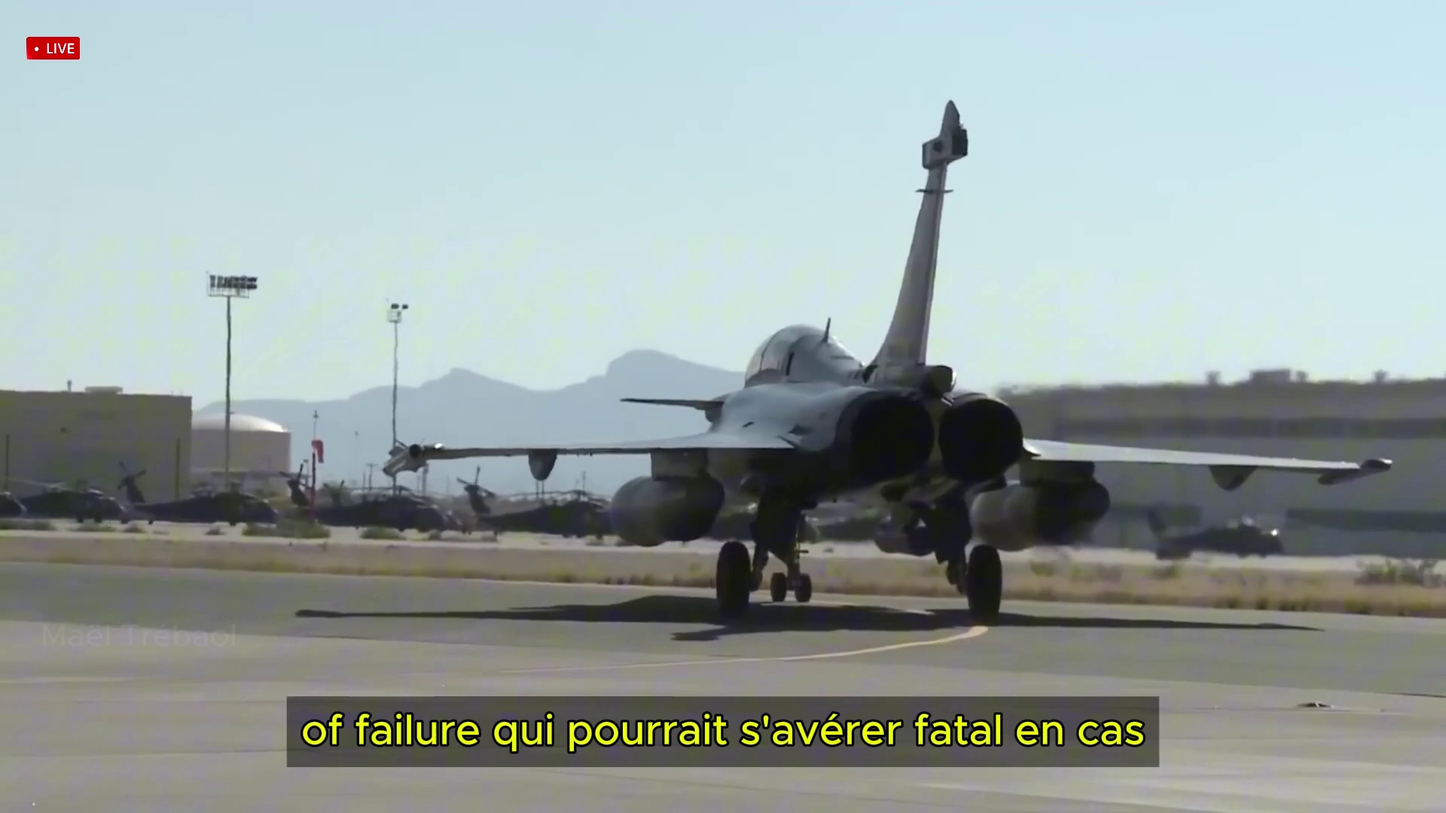Rafale: (394, 103, 1388, 629)
